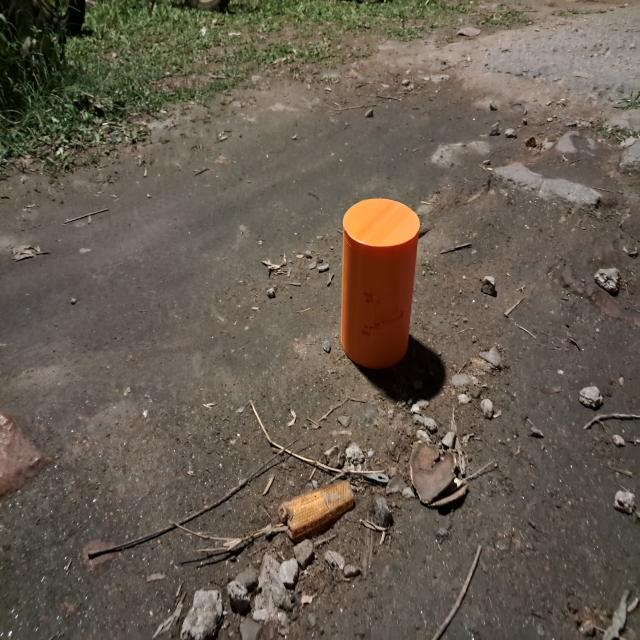Cylinder: (340, 196, 420, 370), (278, 479, 355, 542)
